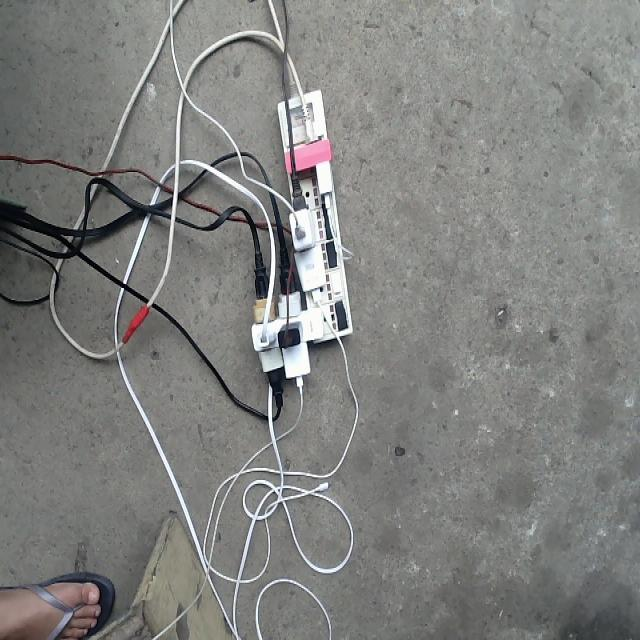-: (208, 49, 384, 430)
